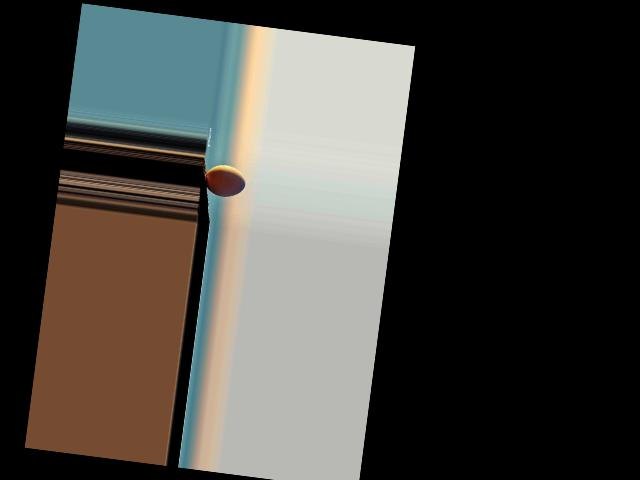egg: (203, 162, 247, 199)
